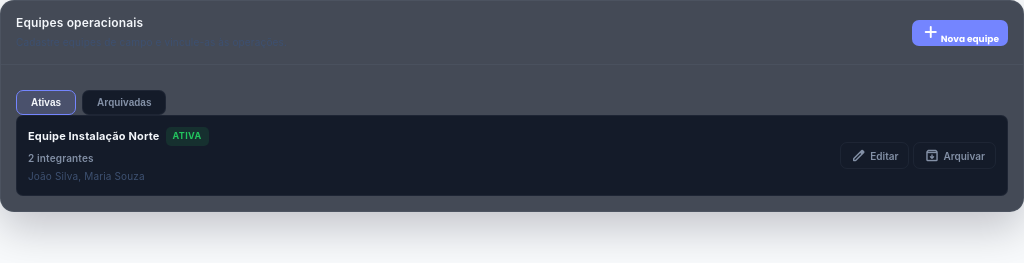
Test: OperationTeamsPanel › alterna para a aba de arquivadas
Click the tab "Arquivadas".
click(124, 103)  # box [82, 90, 166, 115]
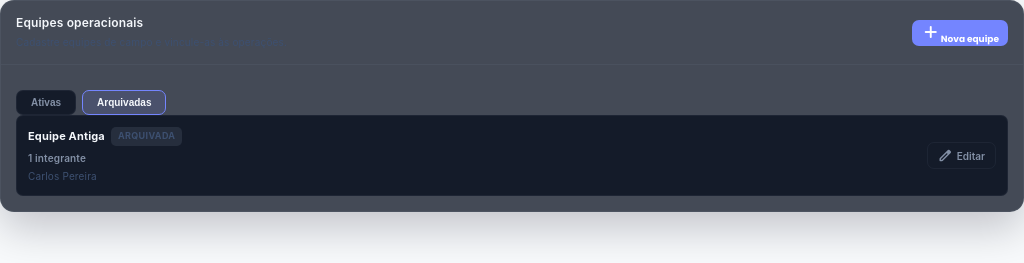
Result: the text "Equipe Antiga" is shown at [28, 128, 105, 145]
Result: the text "Equipe Instalação Norte" is gone
